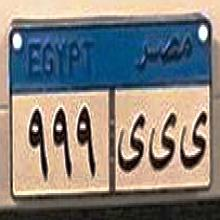9: (74, 103, 101, 179), (25, 101, 49, 184), (51, 105, 73, 180)
yaa: (148, 107, 177, 176), (178, 108, 207, 173), (117, 115, 145, 178)
